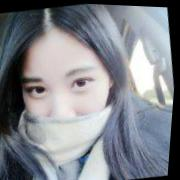WRONG: (14, 40, 122, 159)
